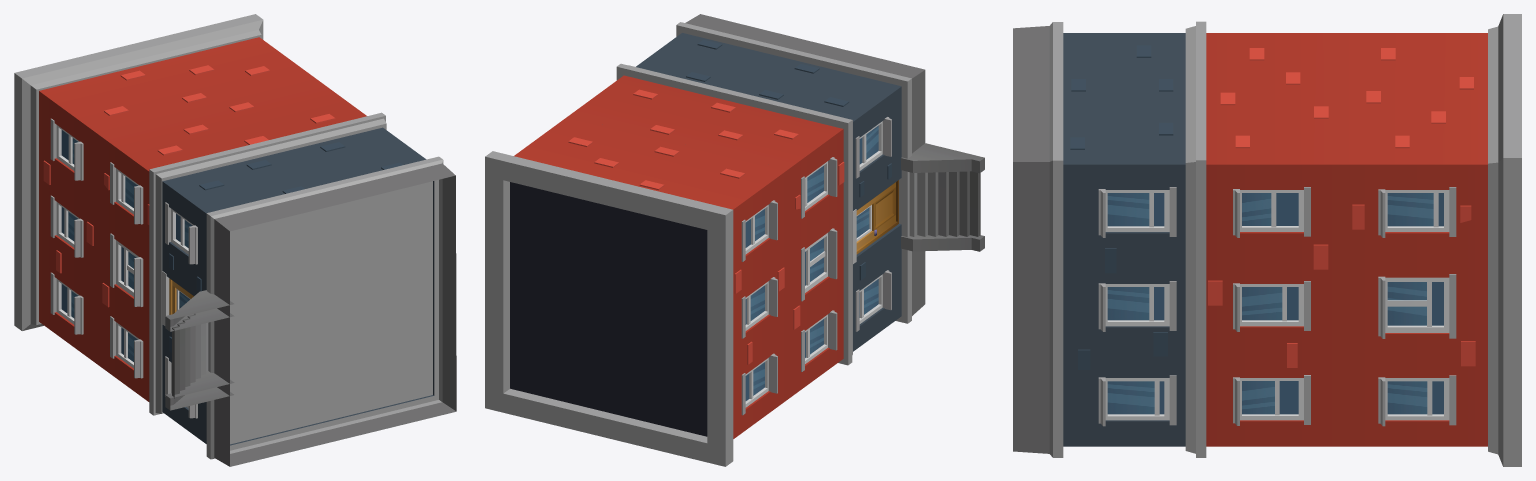
The model's file is Building_2_7_A.glb.
3 renders of one model, left to right at view 1: azimuth 30°, elevation 25°; view 2: azimuth 150°, elevation 25°; view 3: azimuth 270°, elevation 25°, orthographic. The views are drawn at different scales.
Visible parts, largest first — view 1: Building_2_7_A; view 2: Building_2_7_A; view 3: Building_2_7_A.
Part boxes in pixels (x1,y1,x2,y2): Building_2_7_A: (14,14,456,466); Building_2_7_A: (485,14,984,466); Building_2_7_A: (1013,14,1521,466).
Bounding box in the file's own units: 7.54 × 6.2 × 9.26.
3 materials, 3 textured.
